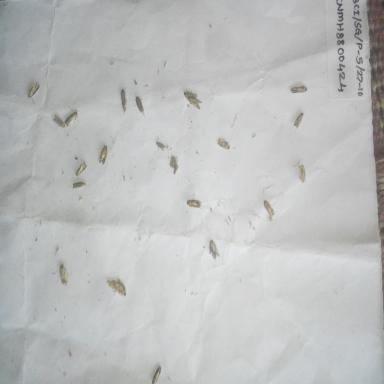pbw: (94, 142, 111, 168), (205, 236, 222, 262), (72, 156, 90, 179), (64, 104, 80, 129), (183, 88, 201, 110), (56, 261, 70, 289), (181, 195, 205, 211), (288, 80, 308, 99), (48, 112, 66, 133), (262, 196, 276, 221), (133, 92, 147, 117), (118, 87, 130, 116), (296, 161, 309, 186), (25, 80, 41, 100), (150, 361, 164, 383), (291, 110, 305, 130), (70, 178, 88, 193), (215, 136, 231, 152), (154, 139, 166, 154)
